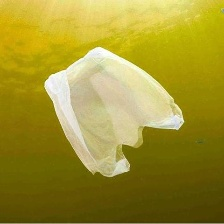plastic_bag: (41, 42, 187, 181)
